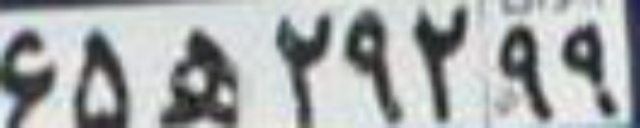2: (274, 8, 330, 127), (413, 3, 468, 121)
5: (72, 27, 136, 127)
6: (0, 29, 57, 125)
9: (343, 9, 401, 121), (491, 23, 552, 121), (558, 23, 619, 118)
he: (155, 26, 246, 125)
